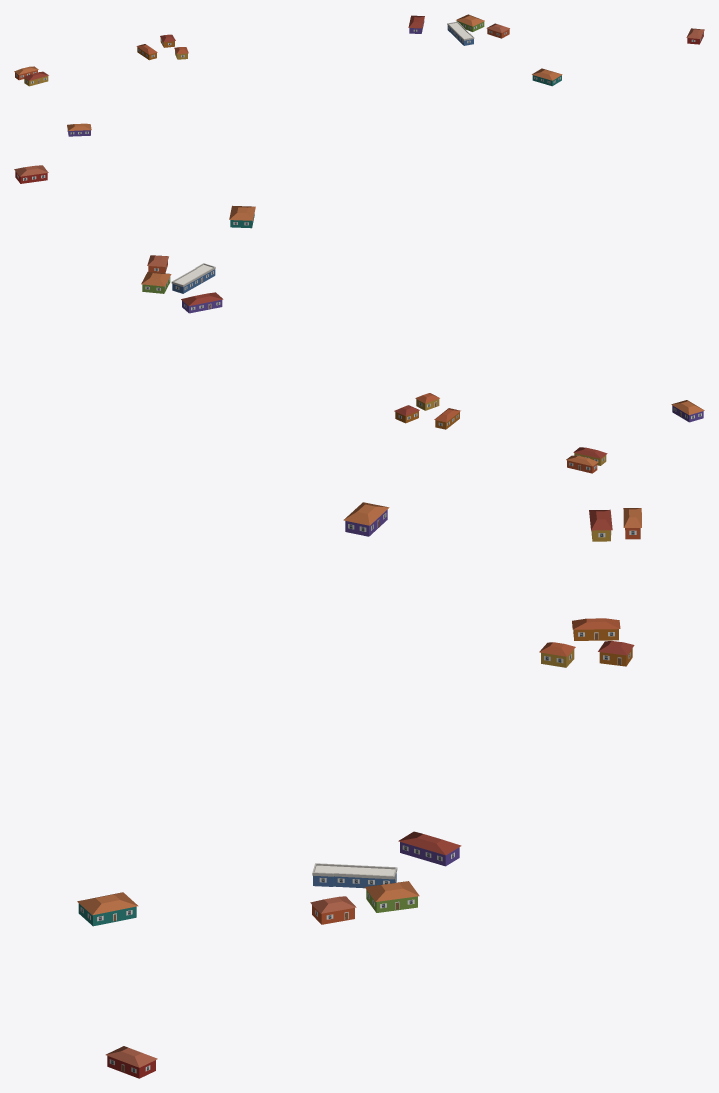
The model's file is msb_oranjestad_m14_5.glb.
The picture shows the model from 3 angles, top to bottom: view 1: azimuth 30°, elevation 25°; view 2: azimuth 150°, elevation 25°; view 3: azimuth 270°, elevation 25°; orthographic projection. The views are drawn at different scales.
Visible parts, largest first — view 1: msb_oranjestad_m14_5_lod0; view 2: msb_oranjestad_m14_5_lod0; view 3: msb_oranjestad_m14_5_lod0.
Part boxes in pixels (bbox=[...]): msb_oranjestad_m14_5_lod0: bbox=[14, 14, 704, 136]; msb_oranjestad_m14_5_lod0: bbox=[14, 165, 704, 473]; msb_oranjestad_m14_5_lod0: bbox=[77, 502, 641, 1078].
Size of what is drawn, in the model's own units: 359 by 9.43 by 151.
3 materials, 1 textured.
